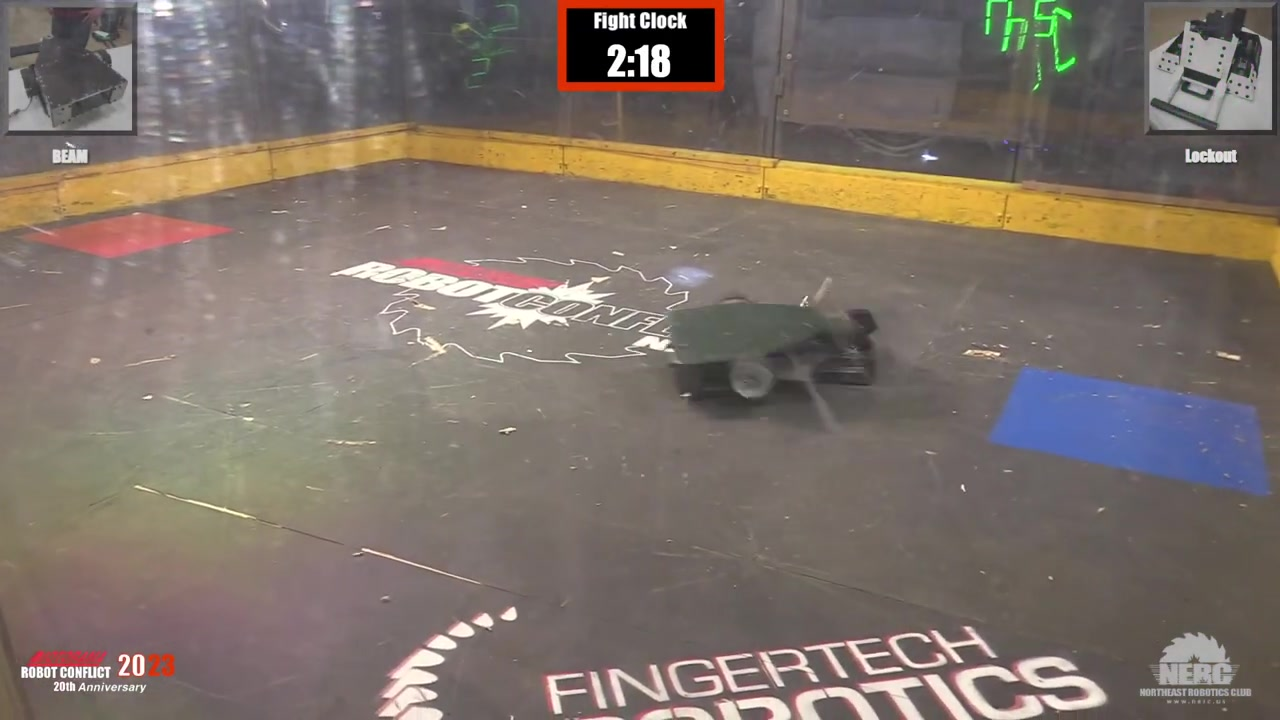combatbot: (670, 305, 832, 387)
